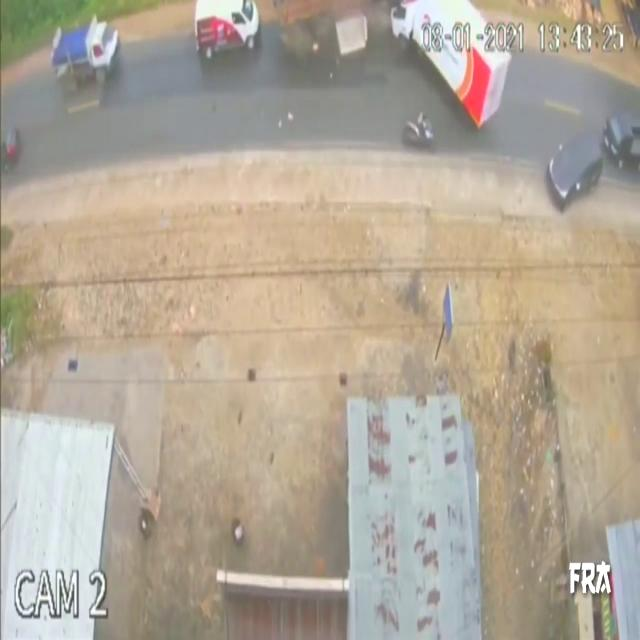accident: (276, 0, 512, 130), (277, 2, 369, 86)
